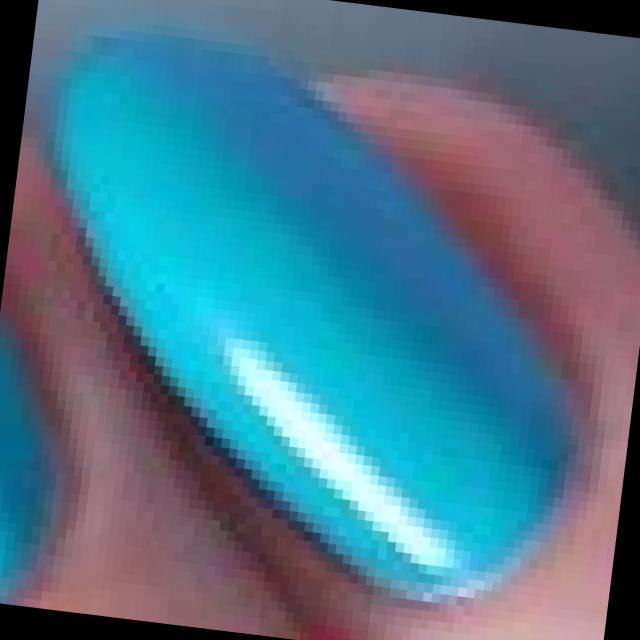Nail: (49, 29, 586, 606)
